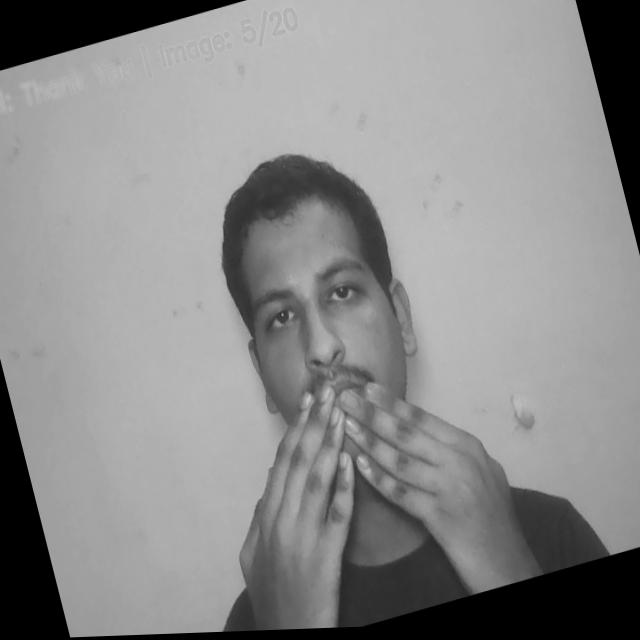Thank You: (204, 350, 520, 612)
